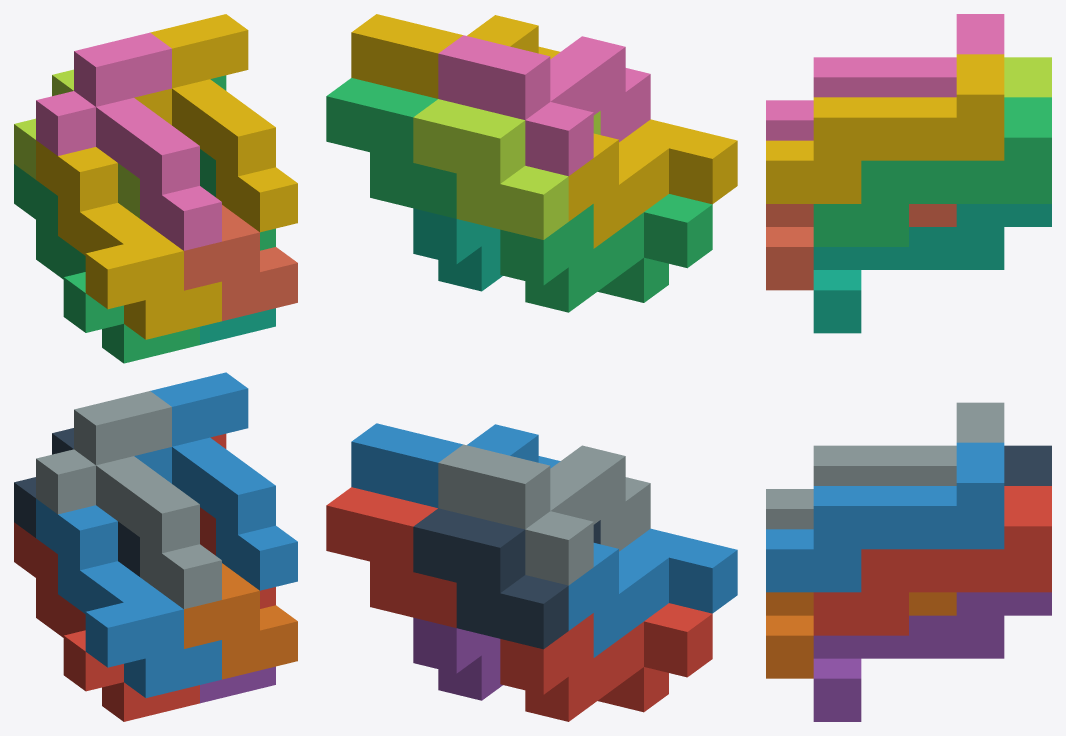
Rendered from tiling.obj.
The picture shows the model from 3 angles, left to right: view 1: azimuth 30°, elevation 25°; view 2: azimuth 150°, elevation 25°; view 3: azimuth 270°, elevation 25°; orthographic projection. The views are drawn at different scales.
Visible parts, largest first — view 1: copy_2_domain_2, copy_2_domain_4, copy_1_domain_4, copy_1_domain_2, copy_2_domain_6, copy_2_domain_8, copy_1_domain_3, copy_1_domain_1, copy_1_domain_6, copy_1_domain_8, copy_2_domain_1, copy_2_domain_3 (+4 smaller); view 2: copy_2_domain_4, copy_2_domain_2, copy_1_domain_1, copy_1_domain_3, copy_2_domain_1, copy_2_domain_3, copy_1_domain_2, copy_1_domain_4, copy_2_domain_5, copy_2_domain_7, copy_2_domain_6, copy_2_domain_8 (+2 smaller); view 3: copy_2_domain_6, copy_2_domain_8, copy_2_domain_5, copy_2_domain_7, copy_1_domain_5, copy_1_domain_7, copy_2_domain_2, copy_2_domain_4, copy_1_domain_6, copy_1_domain_8, copy_2_domain_1, copy_2_domain_3.
Boxes of the visible parts, <box> form: copy_2_domain_2: <box>36,391,221,609</box>; copy_2_domain_4: <box>36,32,221,250</box>; copy_1_domain_4: <box>36,140,221,339</box>; copy_1_domain_2: <box>36,498,221,697</box>; copy_2_domain_6: <box>134,372,297,590</box>; copy_2_domain_8: <box>134,14,297,232</box>; copy_1_domain_3: <box>14,164,199,363</box>; copy_1_domain_1: <box>14,522,199,721</box>; copy_1_domain_6: <box>184,563,297,679</box>; copy_1_domain_8: <box>184,205,297,321</box>; copy_2_domain_1: <box>14,428,139,576</box>; copy_2_domain_3: <box>14,69,139,218</box>; copy_2_domain_4: <box>438,35,650,176</box>; copy_2_domain_2: <box>438,444,650,585</box>; copy_1_domain_1: <box>500,603,712,721</box>; copy_1_domain_3: <box>500,194,712,312</box>; copy_2_domain_1: <box>413,508,600,649</box>; copy_2_domain_3: <box>413,99,600,239</box>; copy_1_domain_2: <box>568,528,737,657</box>; copy_1_domain_4: <box>568,119,737,248</box>; copy_2_domain_5: <box>326,487,456,627</box>; copy_2_domain_7: <box>326,78,456,218</box>; copy_2_domain_6: <box>351,423,560,507</box>; copy_2_domain_8: <box>351,14,559,98</box>; copy_2_domain_6: <box>766,442,1004,592</box>; copy_2_domain_8: <box>766,54,1004,203</box>; copy_2_domain_5: <box>813,486,1051,635</box>; copy_2_domain_7: <box>813,97,1051,246</box>; copy_1_domain_5: <box>813,592,1051,721</box>; copy_1_domain_7: <box>813,204,1051,333</box>; copy_2_domain_2: <box>766,402,1004,529</box>; copy_2_domain_4: <box>766,14,1004,140</box>; copy_1_domain_6: <box>766,592,956,678</box>; copy_1_domain_8: <box>766,204,956,290</box>; copy_2_domain_1: <box>1004,445,1051,485</box>; copy_2_domain_3: <box>1004,57,1051,97</box>.
Bounding box in the file's own units: 6 × 15 × 6.
